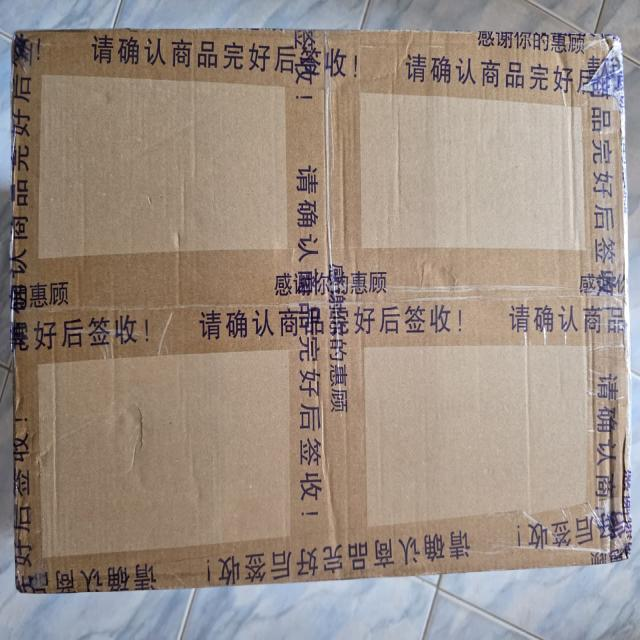carton_box: (7, 22, 635, 598)
package_damage: (606, 403, 640, 582)
